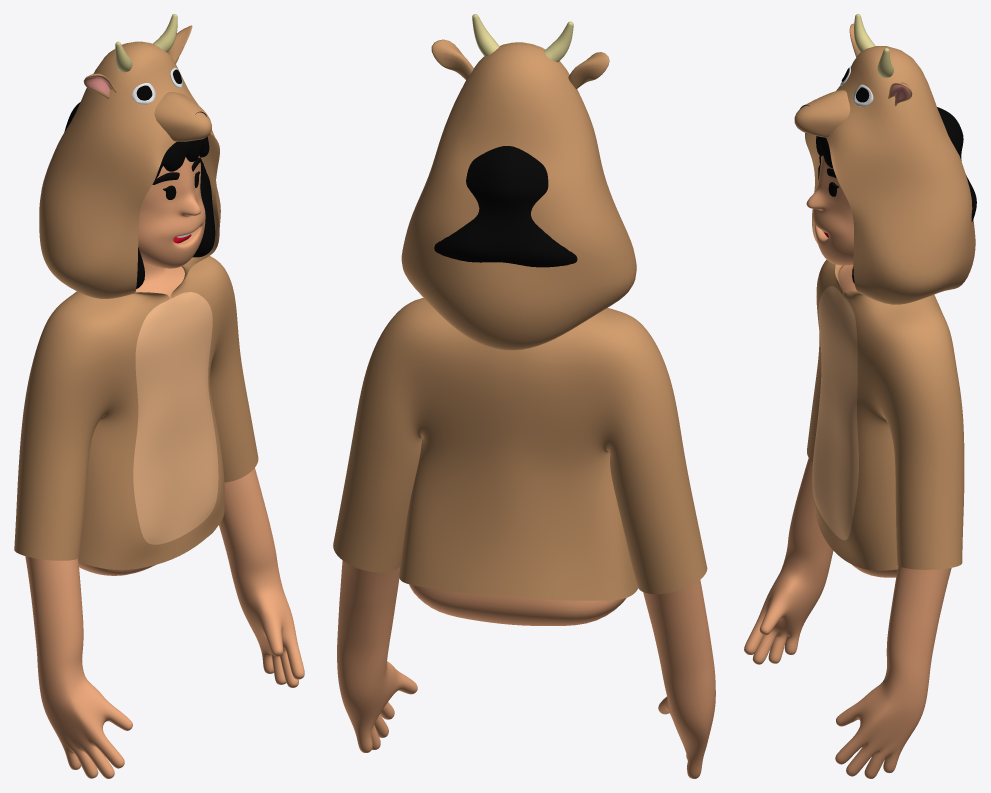
Rendered from Deer.glb.
3 views of the same model, side by side, from view 1: azimuth 30°, elevation 25°; view 2: azimuth 150°, elevation 25°; view 3: azimuth 270°, elevation 25° (orthographic). The views are drawn at different scales.
Visible parts, largest first — view 1: Vert.164, Vert.163, Cube.121, Vert.165, Vert.171, Vert.170, Vert.167, Vert.138; view 2: Vert.164, Vert.163, Vert.171, Vert.167, Vert.138; view 3: Vert.164, Vert.163, Cube.121, Vert.165, Vert.138, Vert.171, Vert.167.
Part boxes in pixels (x1,y1,x2,y2): Vert.164: [14, 41, 258, 569]; Vert.163: [25, 262, 304, 778]; Cube.121: [138, 155, 205, 268]; Vert.165: [154, 92, 211, 141]; Vert.171: [64, 102, 215, 289]; Vert.170: [155, 136, 209, 179]; Vert.167: [83, 25, 192, 98]; Vert.138: [115, 14, 177, 72]; Vert.164: [333, 42, 707, 600]; Vert.163: [337, 437, 715, 778]; Vert.171: [434, 146, 577, 267]; Vert.167: [431, 39, 609, 89]; Vert.138: [472, 14, 573, 62]; Vert.164: [805, 46, 975, 570]; Vert.163: [744, 265, 951, 778]; Cube.121: [806, 155, 853, 265]; Vert.165: [794, 90, 850, 137]; Vert.138: [854, 14, 893, 77]; Vert.171: [852, 107, 976, 283]; Vert.167: [849, 23, 912, 106].
Size of the model in its own units: 6.27 by 14.12 by 4.37.
